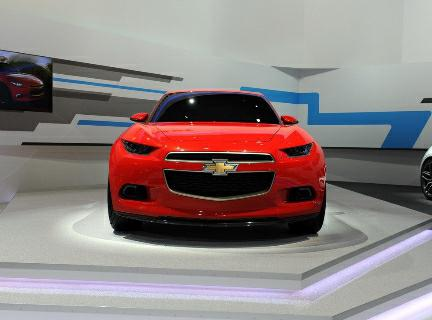雪佛兰-Code: (99, 84, 332, 239)
